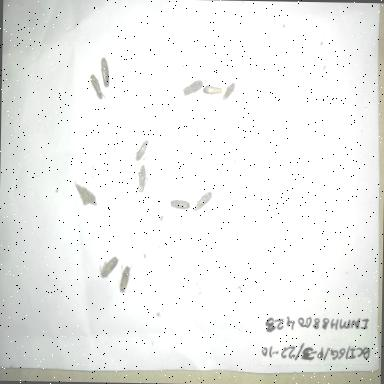pbw: (187, 186, 213, 216), (72, 180, 99, 207), (96, 251, 120, 280), (116, 260, 134, 294), (219, 77, 237, 107), (97, 55, 112, 91), (199, 80, 224, 101), (136, 162, 150, 198), (181, 76, 203, 98), (88, 72, 104, 101), (168, 195, 192, 214), (134, 135, 150, 162)
